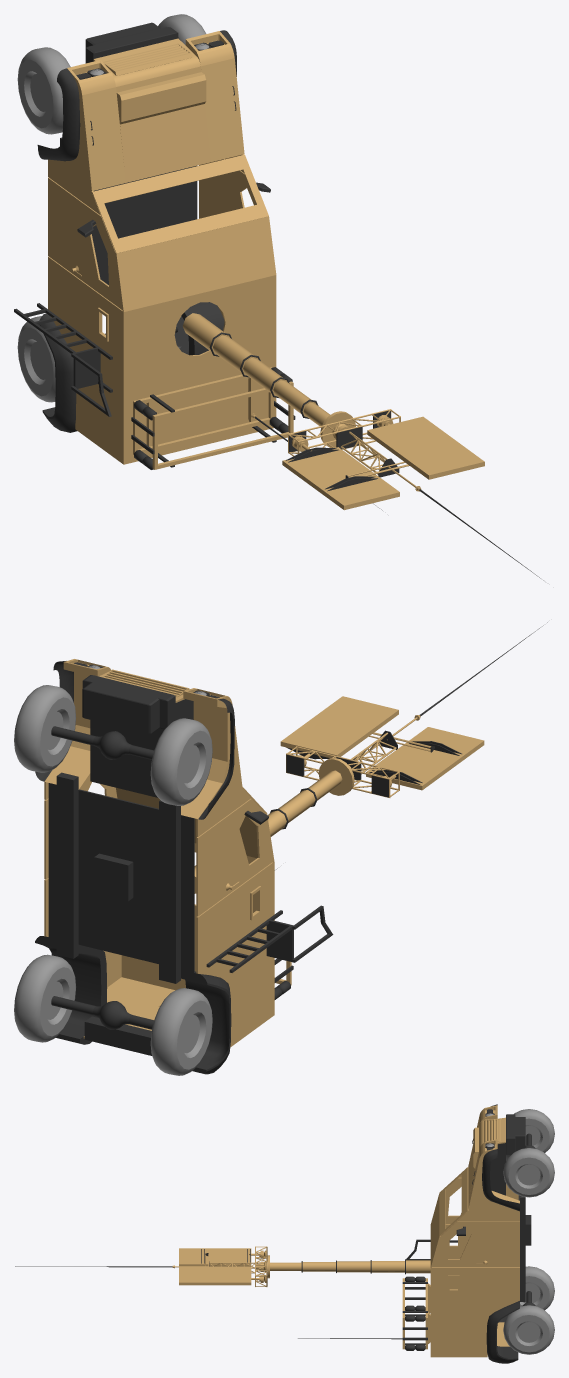
Rendered from PCC.obj.
3 views of the same model, one above another, from view 1: azimuth 30°, elevation 25°; view 2: azimuth 150°, elevation 25°; view 3: azimuth 270°, elevation 25° (orthographic). The views are drawn at different scales.
Parts seen in each view (by area): view 1: PVPBase; view 2: PVPBase; view 3: PVPBase.
Part boxes in pixels (x1=…): PVPBase: x1=14, y1=14, x2=543, y2=580; PVPBase: x1=14, y1=622, x2=547, y2=1075; PVPBase: x1=15, y1=1104, x2=554, y2=1363.
Bounding box in the file's own units: 2.43 × 4.13 × 9.41.
